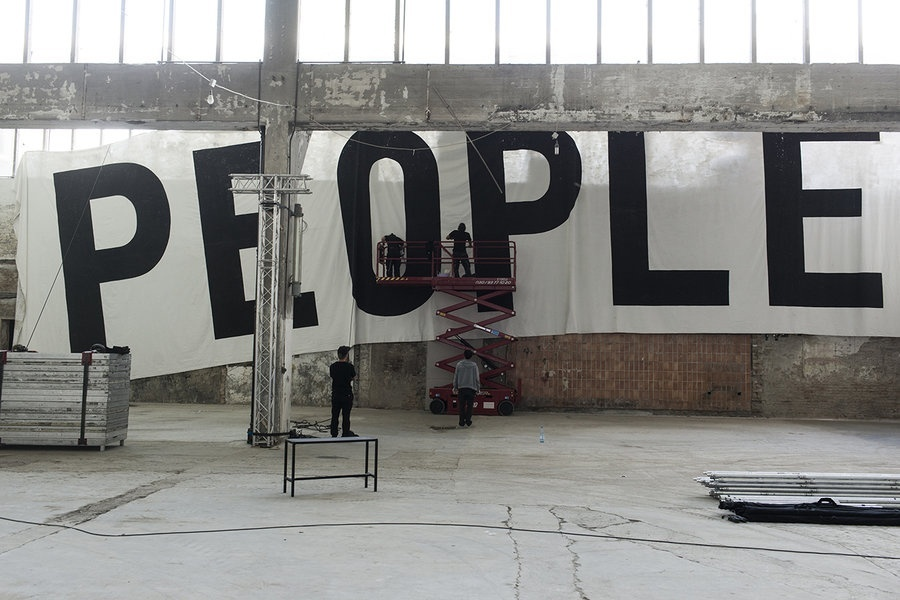text: (49, 128, 64, 361), (65, 128, 80, 361), (81, 128, 96, 361), (97, 128, 112, 361), (113, 128, 128, 361), (129, 128, 144, 361), (145, 128, 160, 361), (161, 128, 176, 361), (177, 128, 192, 361), (193, 128, 208, 361), (209, 128, 224, 361), (225, 128, 240, 361), (241, 128, 256, 361), (257, 128, 272, 361), (273, 128, 288, 361), (289, 128, 304, 361), (305, 128, 320, 361), (321, 128, 336, 361), (337, 128, 352, 361), (353, 128, 368, 361), (369, 128, 384, 361), (385, 128, 400, 361), (401, 128, 416, 361), (417, 128, 432, 361), (433, 128, 448, 361), (449, 128, 464, 361), (465, 128, 480, 361), (481, 128, 496, 361), (497, 128, 512, 361), (513, 128, 528, 361), (529, 128, 544, 361), (545, 128, 560, 361), (561, 128, 576, 361), (577, 128, 592, 361), (593, 128, 608, 361), (609, 128, 624, 361), (625, 128, 640, 361), (641, 128, 656, 361), (657, 128, 672, 361), (673, 128, 688, 361), (689, 128, 704, 361), (705, 128, 720, 361), (721, 128, 736, 361), (737, 128, 752, 361), (753, 128, 768, 361), (769, 128, 784, 361), (785, 128, 800, 361), (801, 128, 816, 361), (817, 128, 832, 361), (833, 128, 848, 361), (849, 128, 864, 361), (865, 128, 880, 361), (881, 128, 889, 361), (41, 128, 48, 361)
